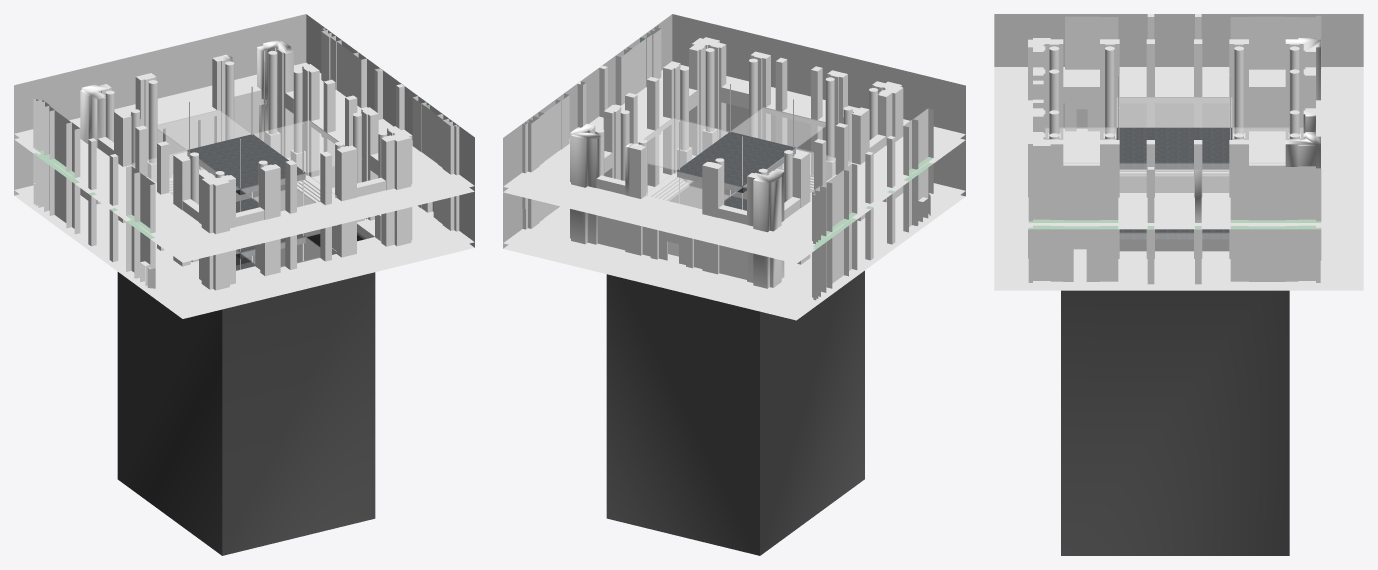
The model's file is project14.glb.
The picture shows the model from 3 angles, left to right: view 1: azimuth 30°, elevation 25°; view 2: azimuth 150°, elevation 25°; view 3: azimuth 270°, elevation 25°; orthographic projection. The views are drawn at different scales.
Parts seen in each view (by area): view 1: festék - titánfehér; view 2: festék - titánfehér; view 3: festék - titánfehér.
Part boxes in pixels (x1,y1,x2,y2): festék - titánfehér: (14, 14, 474, 555); festék - titánfehér: (503, 14, 965, 555); festék - titánfehér: (994, 14, 1363, 555).
Bounding box in the file's own units: 0.6572 × 0.8309 × 0.6572.
9 materials, 2 textured.
